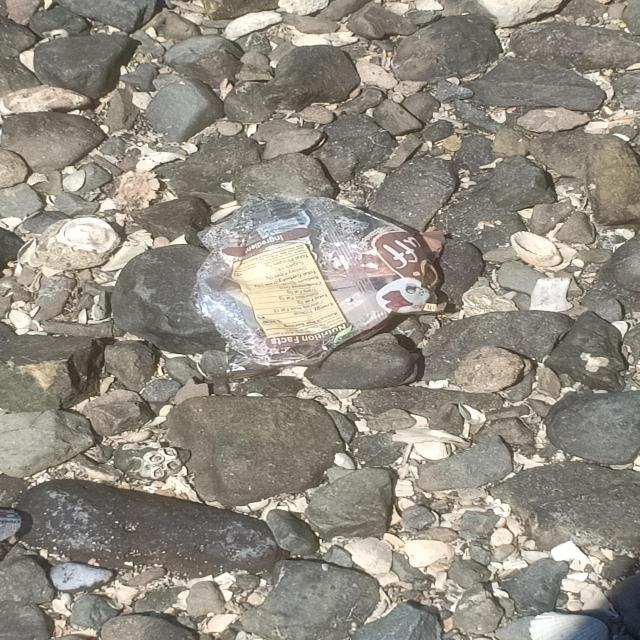plastic_waste: (189, 192, 449, 370)
